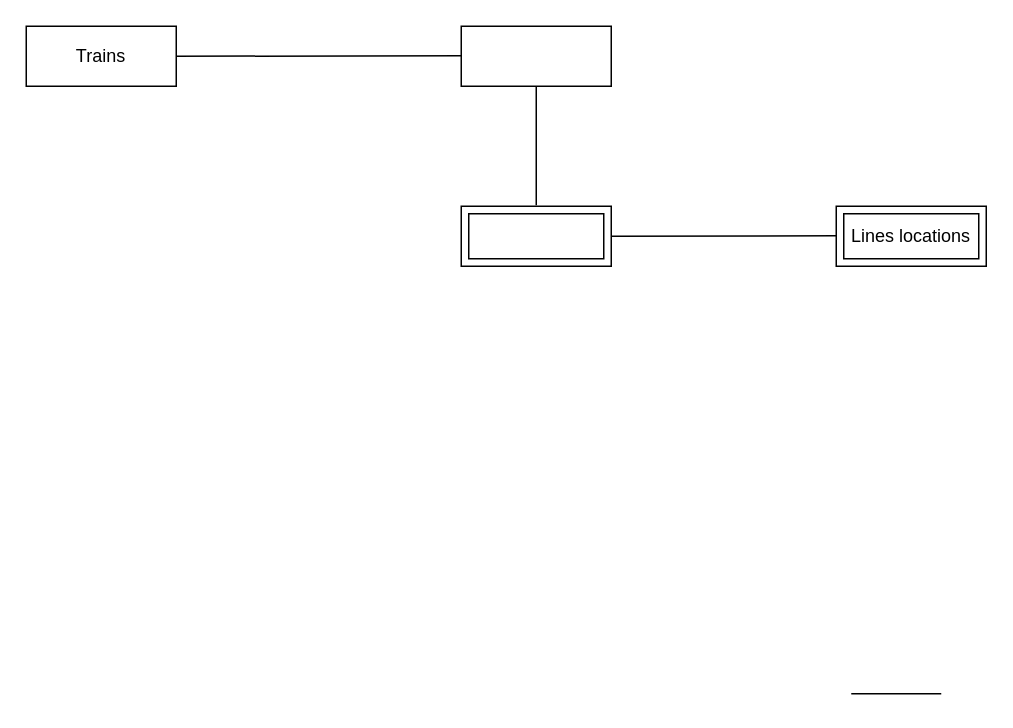
Some shapes in this 1013 by 728 pixel diagram are drawn without their labels. The centre of each missing label's shape, as x and y in pixels:
"Lines" goes at point (535, 55).
"Stations" goes at point (535, 235).
